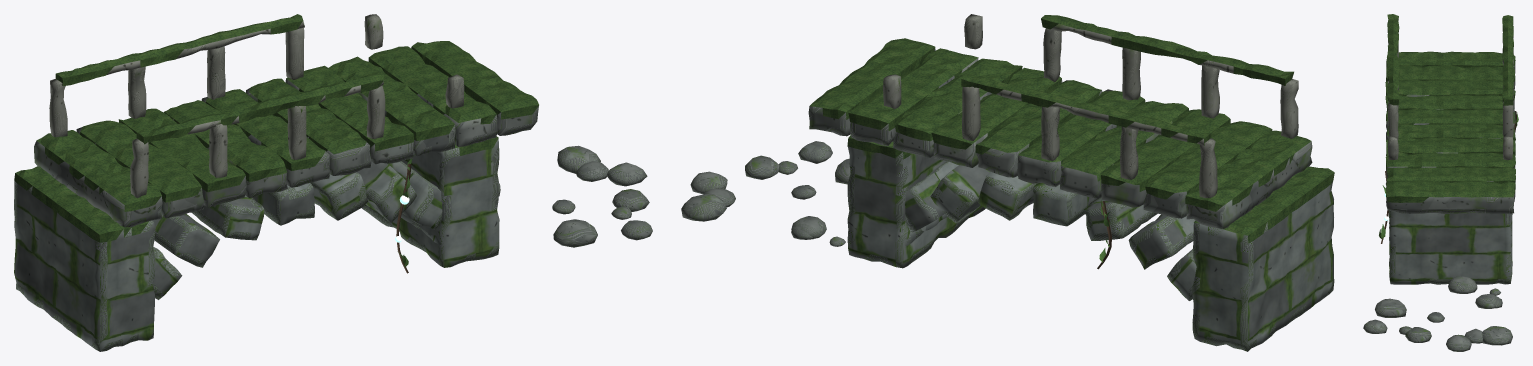
File: broken_ruin_bridge.glb
The picture shows the model from 3 angles, left to right: view 1: azimuth 30°, elevation 25°; view 2: azimuth 150°, elevation 25°; view 3: azimuth 270°, elevation 25°; orthographic projection. The views are drawn at different scales.
Parts seen in each view (by area): view 1: broken_ruin_bridge__moss, broken_ruin_bridge__stone_wall, broken_ruin_bridge__stone_block, broken_ruin_bridge__stone_pale; view 2: broken_ruin_bridge__moss, broken_ruin_bridge__stone_wall, broken_ruin_bridge__stone_block, broken_ruin_bridge__stone_pale; view 3: broken_ruin_bridge__moss, broken_ruin_bridge__stone_wall, broken_ruin_bridge__stone_block, broken_ruin_bridge__stone_pale, broken_ruin_bridge__leaf.
Part boxes in pixels (bbox=[...]): broken_ruin_bridge__moss: bbox=[14, 14, 538, 242]; broken_ruin_bridge__stone_wall: bbox=[14, 138, 499, 351]; broken_ruin_bridge__stone_block: bbox=[34, 79, 652, 247]; broken_ruin_bridge__stone_pale: bbox=[49, 14, 464, 197]; broken_ruin_bridge__moss: bbox=[810, 15, 1334, 243]; broken_ruin_bridge__stone_wall: bbox=[847, 146, 1334, 351]; broken_ruin_bridge__stone_block: bbox=[681, 48, 1312, 246]; broken_ruin_bridge__stone_pale: bbox=[883, 14, 1298, 198]; broken_ruin_bridge__moss: bbox=[1385, 14, 1515, 202]; broken_ruin_bridge__stone_wall: bbox=[1389, 210, 1512, 284]; broken_ruin_bridge__stone_block: bbox=[1363, 64, 1515, 351]; broken_ruin_bridge__stone_pale: bbox=[1388, 35, 1513, 160]; broken_ruin_bridge__leaf: bbox=[1379, 111, 1518, 239].
Bounding box in the file's own units: 8.28 × 2.82 × 2.66.
Materials: 7 (6 with a texture image).
